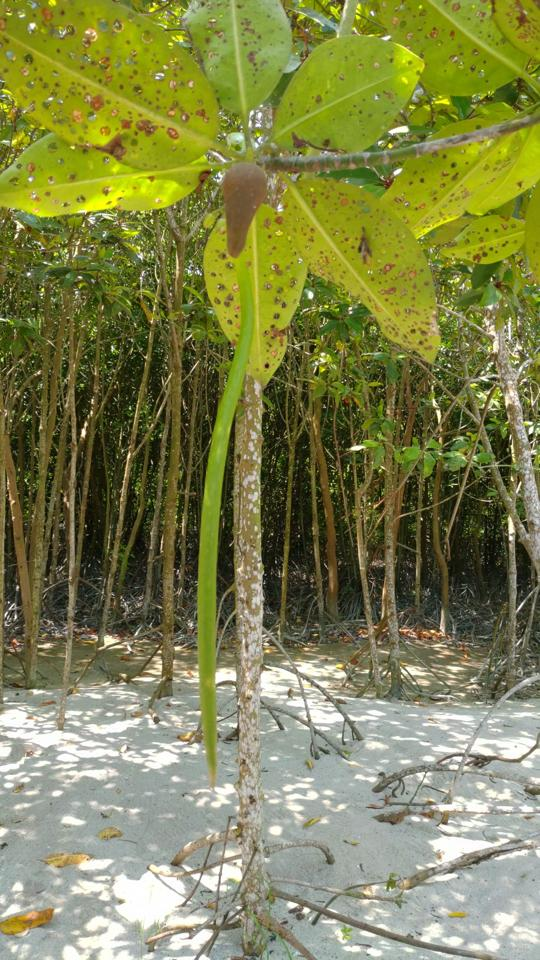mentah: (187, 138, 286, 803)
